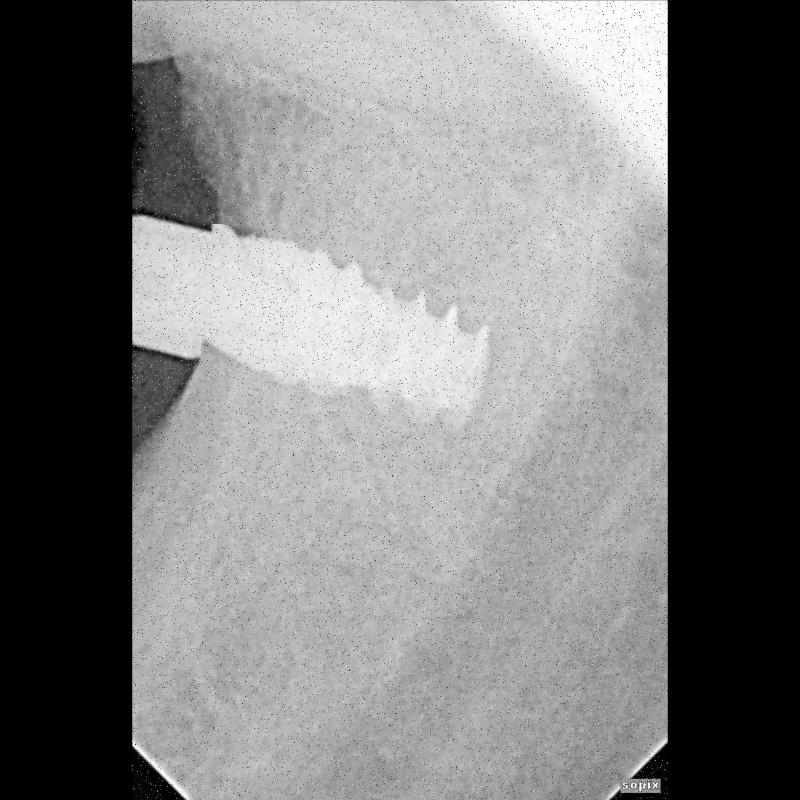NORIS: (200, 230, 502, 430)
